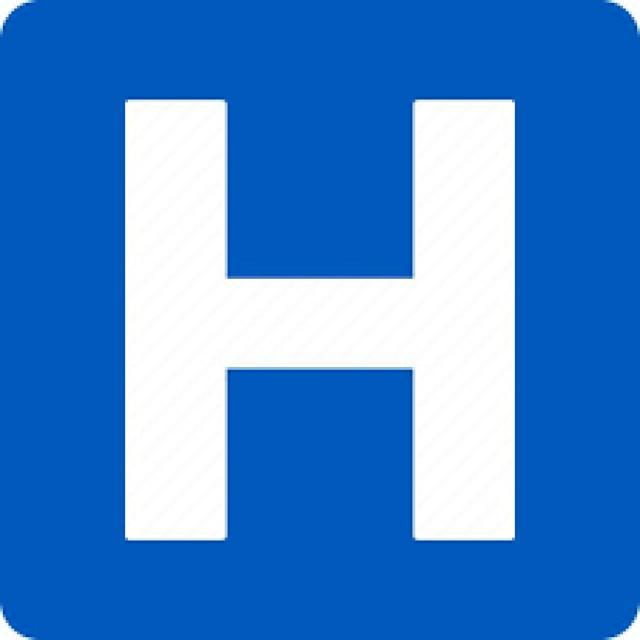hospital ahead: (23, 39, 584, 579)
